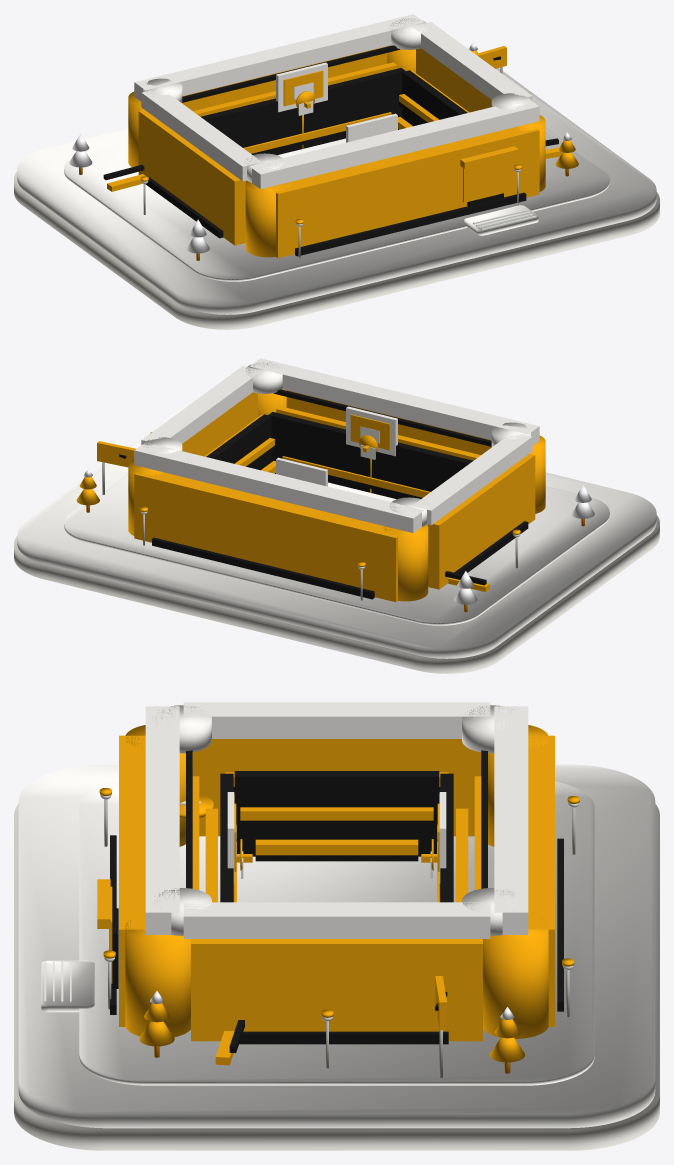
The model's file is zona_basketball.glb.
3 renders of one model, top to bottom at view 1: azimuth 30°, elevation 25°; view 2: azimuth 150°, elevation 25°; view 3: azimuth 270°, elevation 25°, orthographic. The views are drawn at different scales.
Parts seen in each view (by area): view 1: basketball platform top, basket front continuous yellow wall, basketball subtle plaza guide, basketball platform side, basket front white roof bar, basket rear vertical pit wall, basket left continuous yellow wall, basket rear white roof bar, basket left white roof bar, basket right white roof bar, basket rounded yellow exterior corner, basket front lower black plinth (+19 smaller); view 2: basketball platform top, basket rear continuous yellow wall, basketball subtle plaza guide, basketball platform side, basket rear white roof bar, basket front vertical pit wall, basket left continuous yellow wall, basket front white roof bar, basket left white roof bar, basket right white roof bar, basket rounded yellow exterior corner.001, basket rear lower black plinth (+16 smaller); view 3: basketball platform top, basketball subtle plaza guide, basket right continuous yellow wall, basketball platform side, basket right white roof bar, basket left continuous yellow wall, basket left vertical pit wall, basket left white roof bar, basket rear white roof bar, basket front white roof bar, basket rounded yellow exterior corner.003, basket rounded yellow exterior corner.002 (+29 smaller).
Part boxes in pixels (x1,y1,x2,y2): basketball platform top: (17,68,656,314); basket front continuous yellow wall: (270,124,539,258); basketball subtle plaza guide: (64,127,609,281); basketball platform side: (14,171,659,329); basket front white roof bar: (250,99,539,189); basket rear vertical pit wall: (200,68,405,155); basket left continuous yellow wall: (138,109,246,245); basket rear white roof bar: (134,14,424,101); basket left white roof bar: (141,90,261,181); basket right white roof bar: (412,22,532,100); basket rounded yellow exterior corner: (245,180,290,257); basket front lower black plinth: (295,192,526,256); basketball platform top: (17,404,656,658); basket rear continuous yellow wall: (134,467,404,602); basketball subtle plaza guide: (64,471,609,625); basketball platform side: (14,515,659,673); basket rear white roof bar: (134,442,423,533); basket front vertical pit wall: (268,412,473,499); basket left continuous yellow wall: (427,453,535,589); basket front white roof bar: (249,358,539,445); basket left white roof bar: (412,433,532,525); basket right white roof bar: (141,366,261,444); basket rounded yellow exterior corner.001: (383,524,428,601); basket rear lower black plinth: (152,537,374,599); basketball platform top: (18,764,655,1128); basketball subtle plaza guide: (79,781,594,1085); basket right continuous yellow wall: (191,939,482,1041); basketball platform side: (14,804,659,1150); basket right white roof bar: (183,902,490,938); basket left continuous yellow wall: (193,739,480,836); basket left vertical pit wall: (234,771,439,856); basket left white roof bar: (183,702,490,738); basket rear white roof bar: (494,706,528,934); basket front white roof bar: (145,706,179,934); basket rounded yellow exterior corner.003: (483,918,548,1038); basket rounded yellow exterior corner.002: (125,920,190,1037).
Size of the model in its own units: 4.41 by 0.99 by 3.41.
